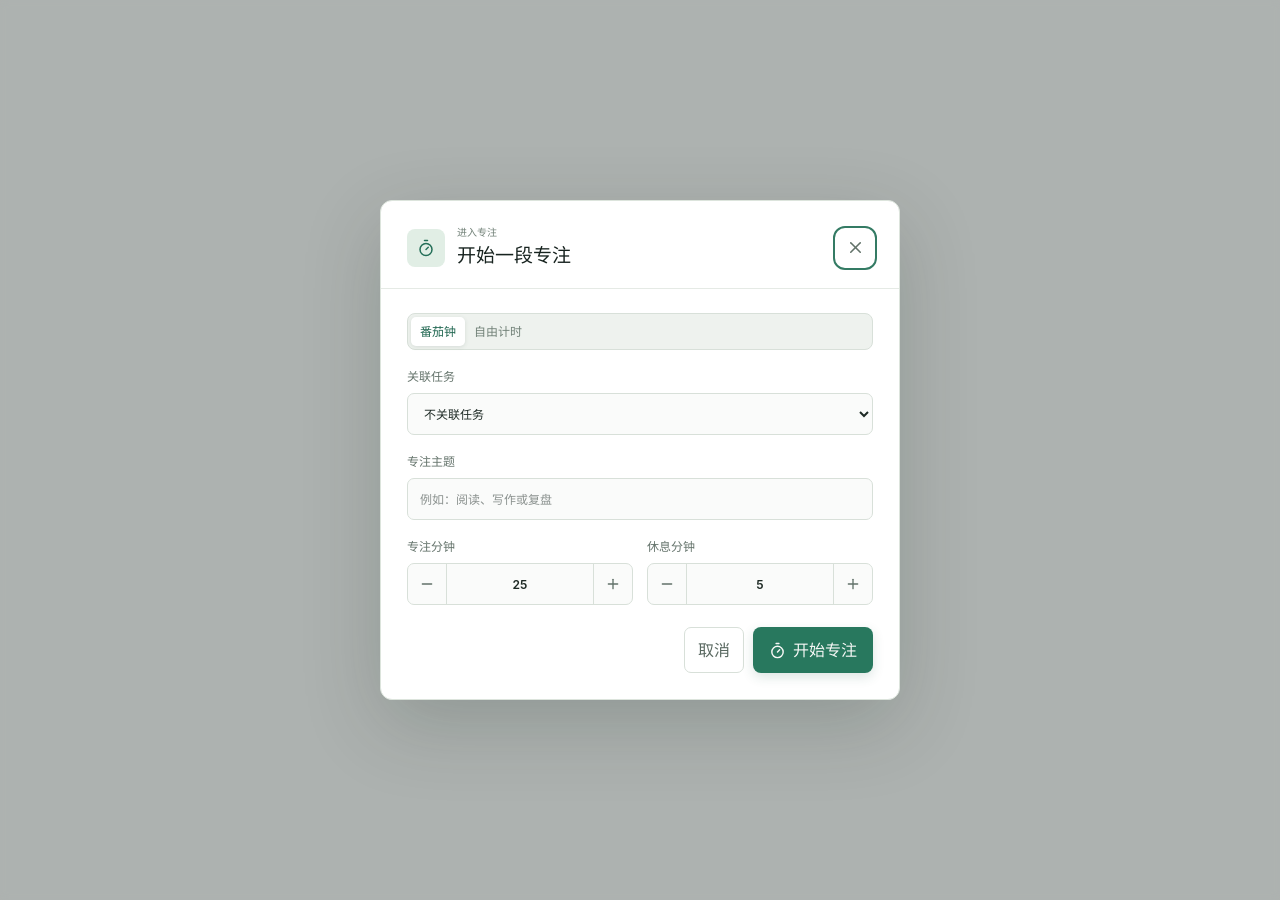
Scenario: FocusSetupDialog › requires a temporary subject and validates pomodoro duration ranges
Replace the text in the number field labelled "专注分钟" with "181" at (520, 584), box [446,564,594,604]
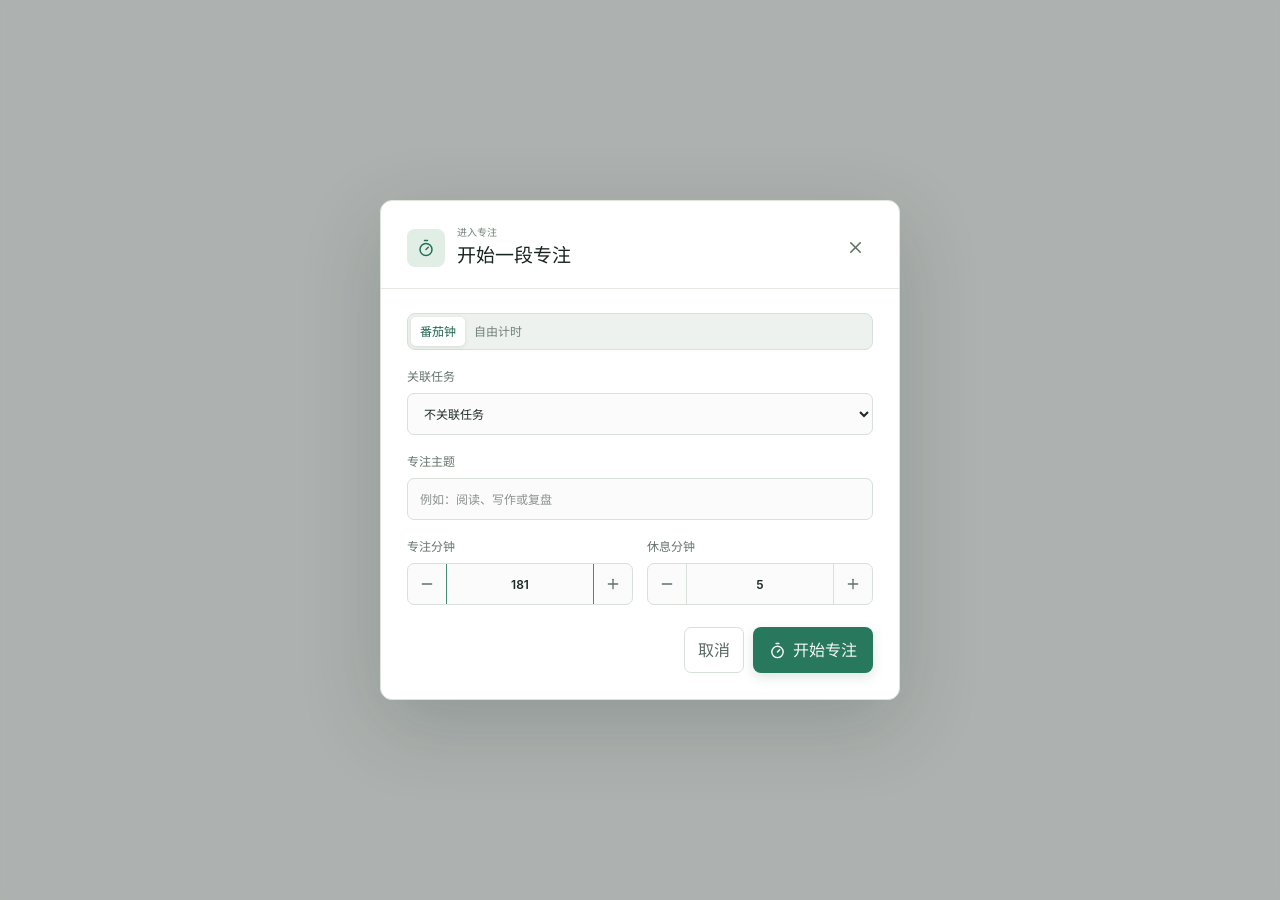
Replace the text in the number field labelled "休息分钟" with "0" at (760, 584), box [686,564,834,604]
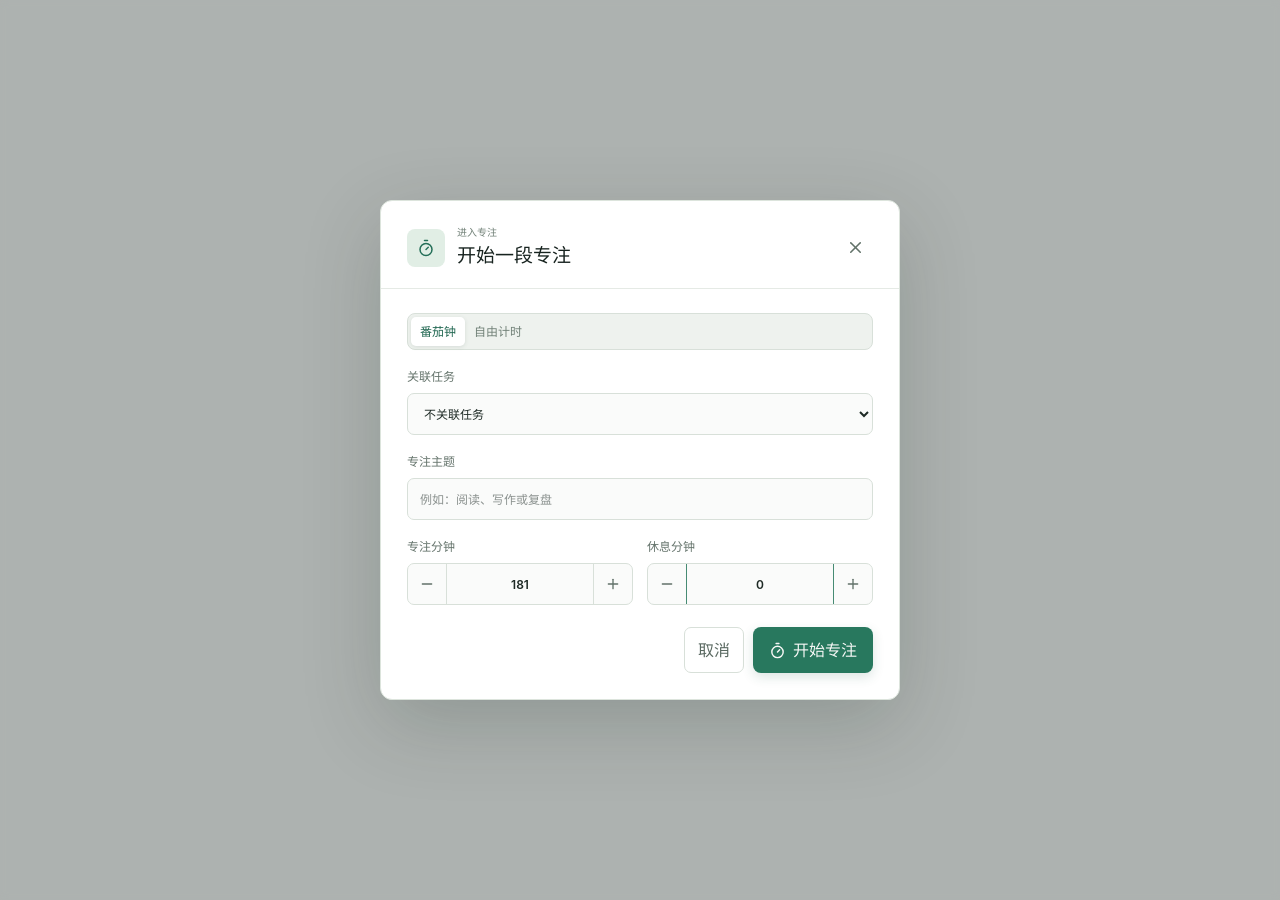
Click the button "开始专注" at (813, 650), box [753,627,873,673]
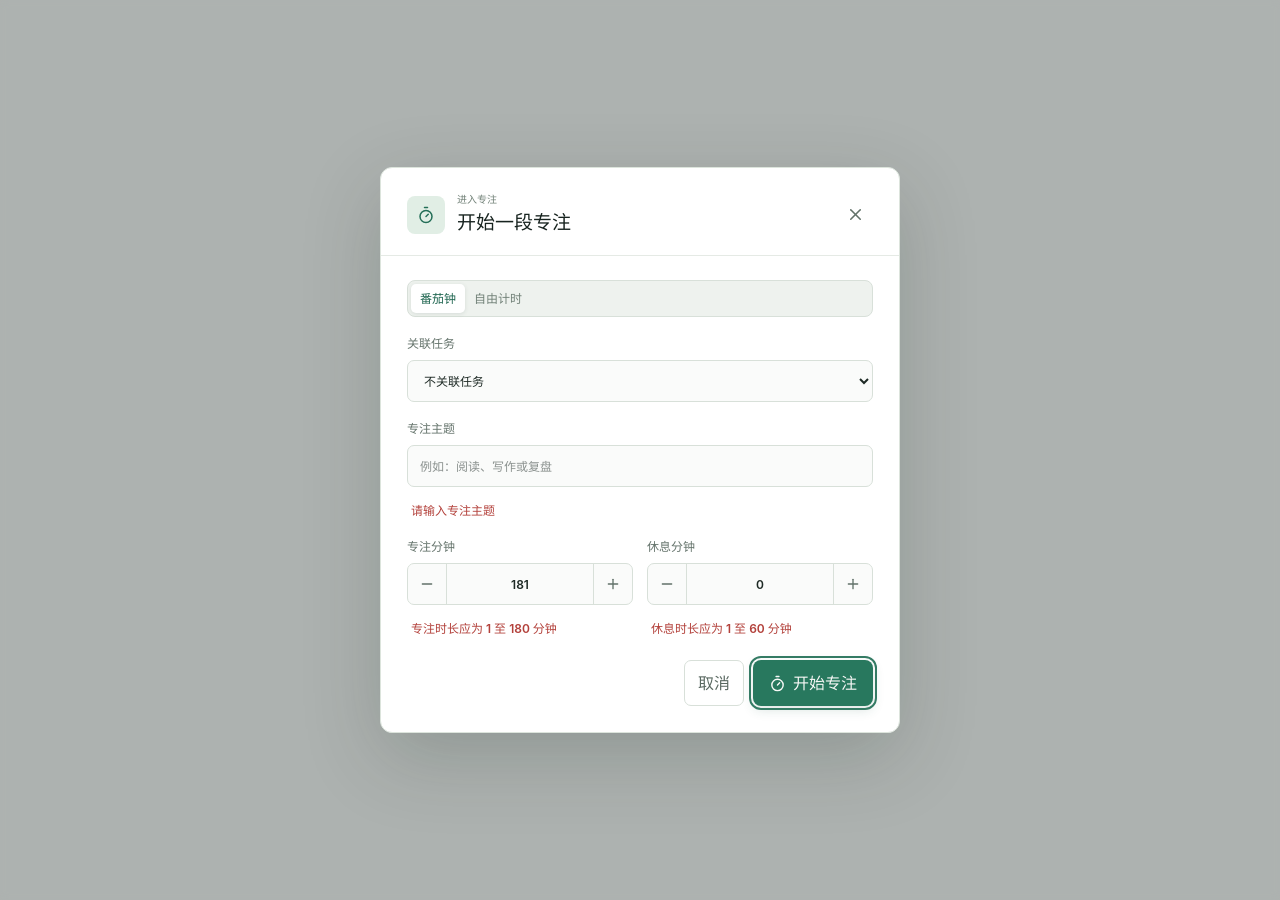
Check: the text "请输入专注主题" is shown, box [411,503,495,518]
Check: the text "专注时长应为 1 至 180 分钟" is shown, box [411,621,557,636]
Check: the text "休息时长应为 1 至 60 分钟" is shown, box [651,621,792,636]
